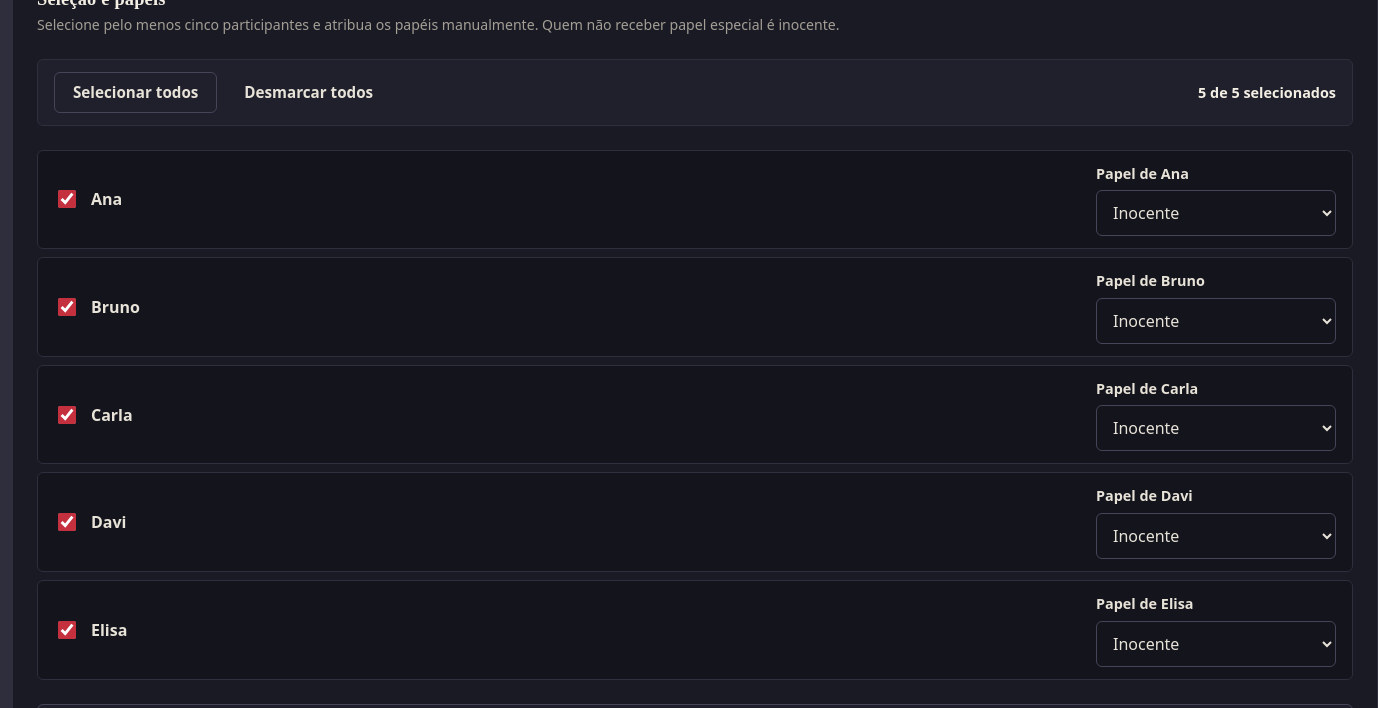
Test: Configuração da partida (integração) › atribui exatamente um papel por participante selecionado
This screenshot has width=1378, height=708.
Expected: the text "5 de 5 selecionados" is shown, [1198,82,1336,103]
Select "Assassino" in the dropdown labelled "Papel de Ana" at (1216, 213), box [1096,190,1336,236]
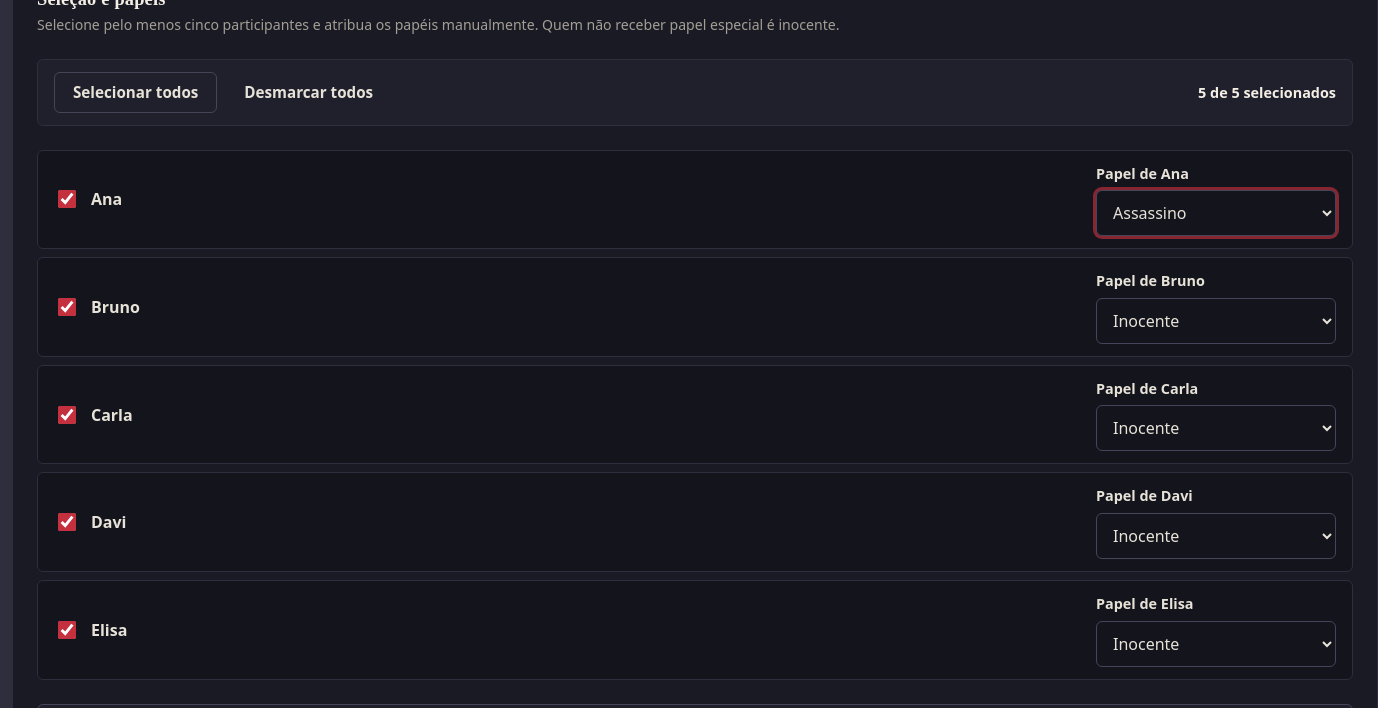
Select "Detetive" in the dropdown labelled "Papel de Bruno" at (1216, 321), box [1096,298,1336,344]
(page scrolled)
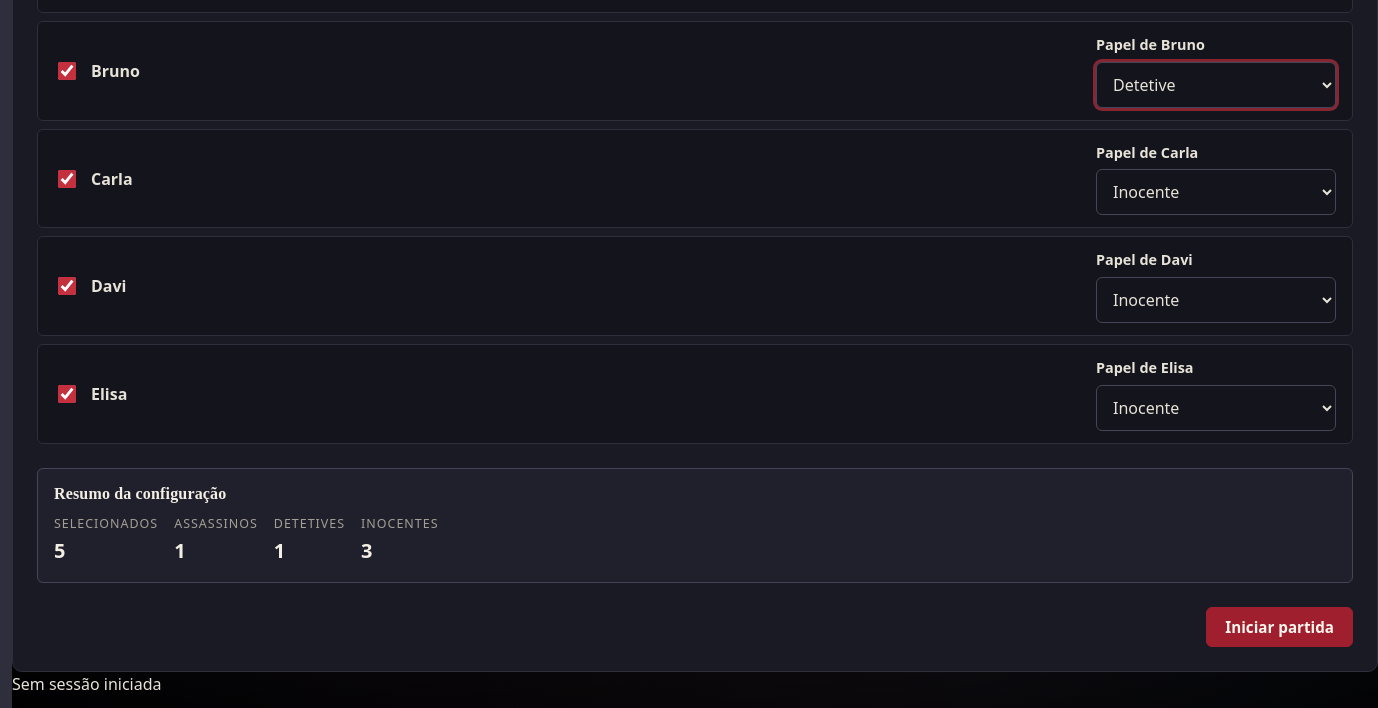
Click the button "Iniciar partida".
click(1280, 627)  # box [1206,607,1353,647]
(page scrolled)
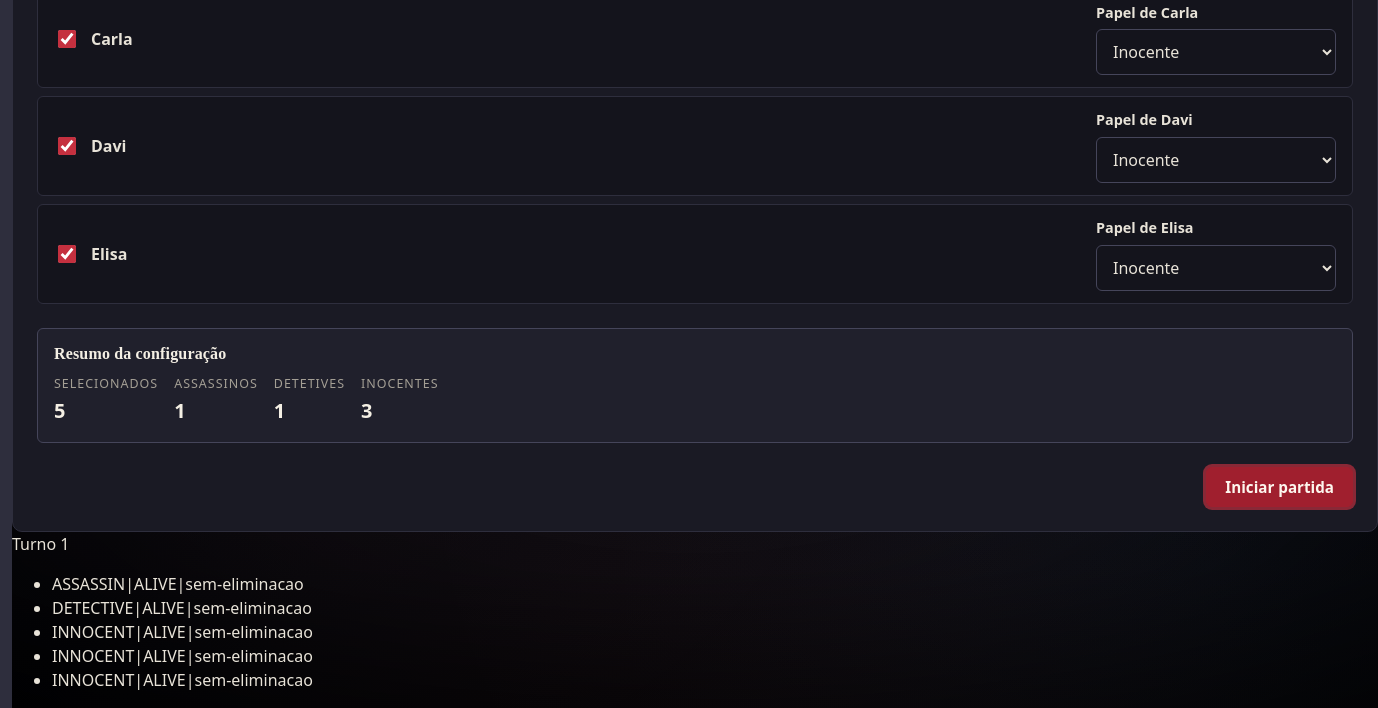
Now the list item with test id "role-p-1" shows "ASSASSIN|", box [52,573,125,595]
Now the list item with test id "role-p-2" shows "DETECTIVE|", box [52,597,133,619]
Now the list item with test id "role-p-3" shows "INNOCENT|", box [52,621,134,643]
